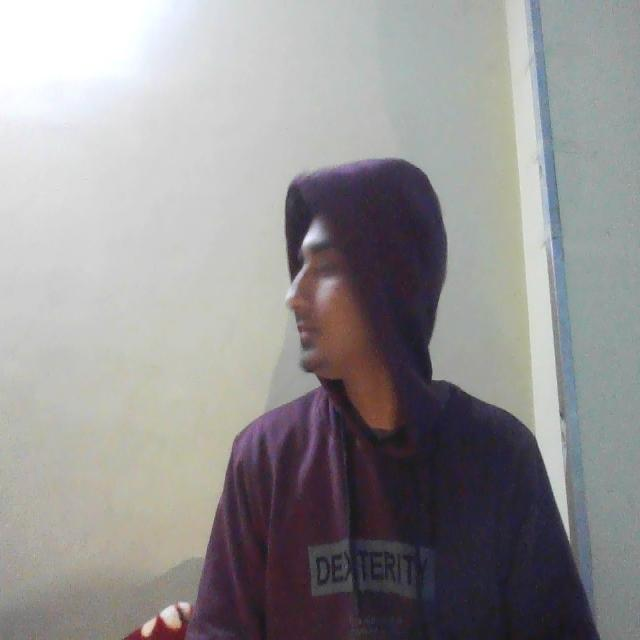real: (275, 160, 410, 416)
